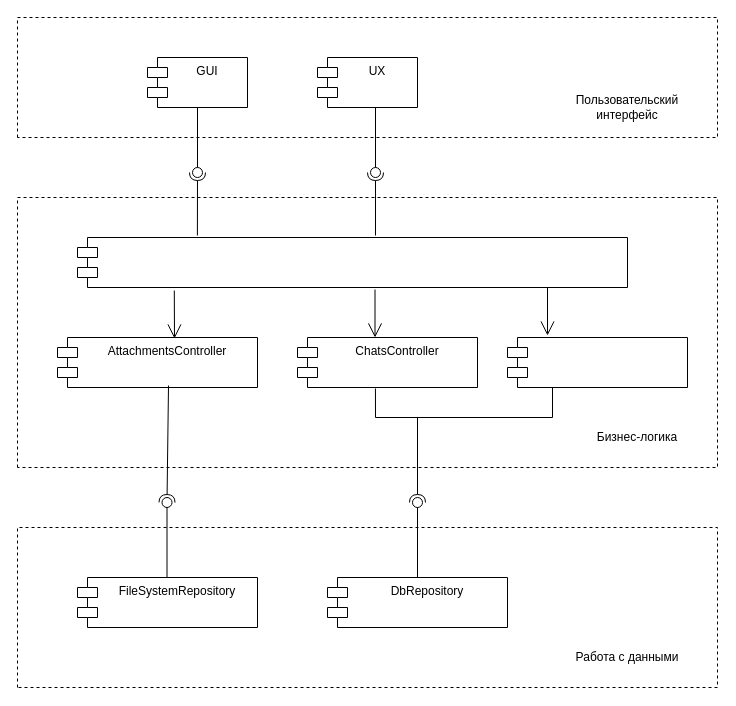
Some shapes in this 736 by 706 pixel diagram are drawn without their labels. Here are the shapes that lost their labels. From the top down, the box of each, then its label:
(76, 236, 628, 288): AppController
(506, 336, 688, 388): NotificationsController
